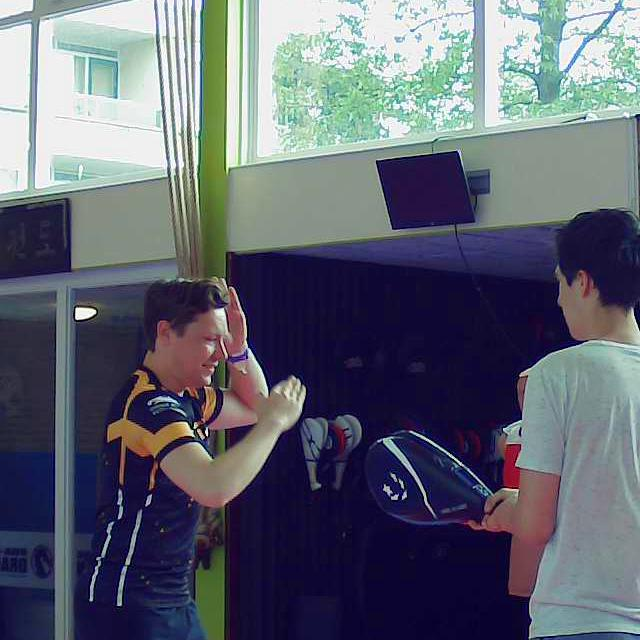paddle: (365, 429, 501, 529)
